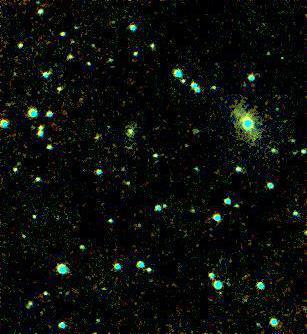star: (103, 96, 133, 126)
